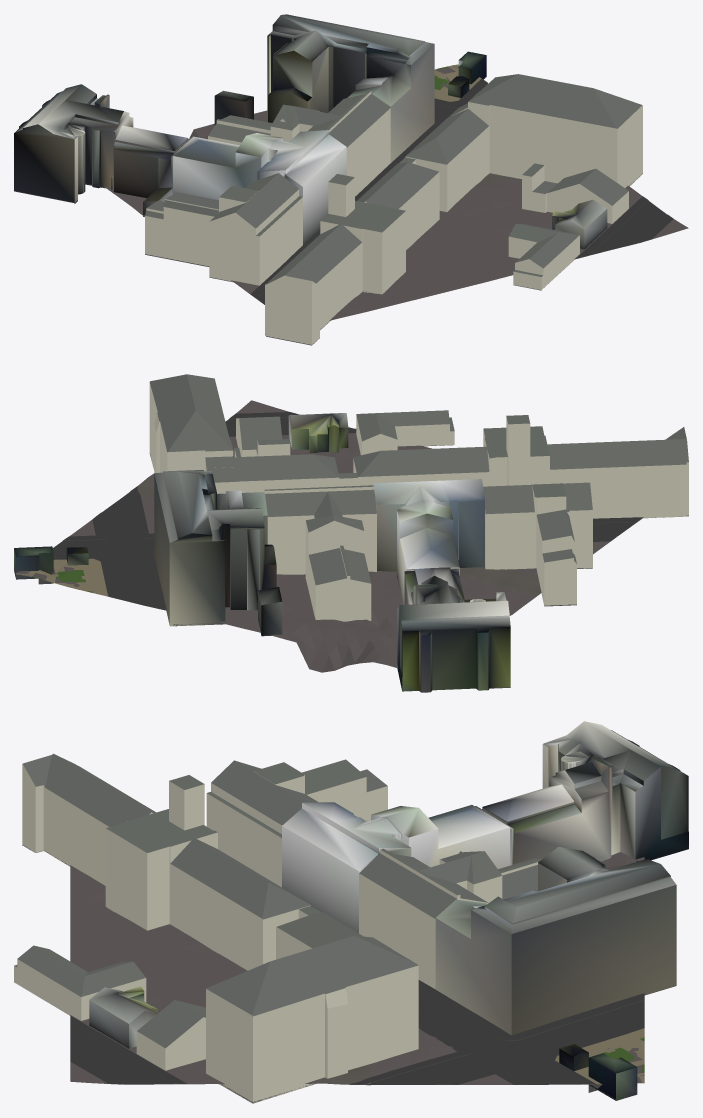
3 renders of one model, top to bottom at view 1: azimuth 30°, elevation 25°; view 2: azimuth 150°, elevation 25°; view 3: azimuth 270°, elevation 25°, orthographic. The views are drawn at different scales.
Visible parts, largest first — view 1: c_m10_p03; view 2: c_m10_p03; view 3: c_m10_p03.
Part boxes in pixels (bbox=[...]): c_m10_p03: bbox=[14, 14, 688, 345]; c_m10_p03: bbox=[14, 374, 688, 692]; c_m10_p03: bbox=[14, 721, 688, 1103].
Size of the model in its own units: 159 by 35.14 by 150.
